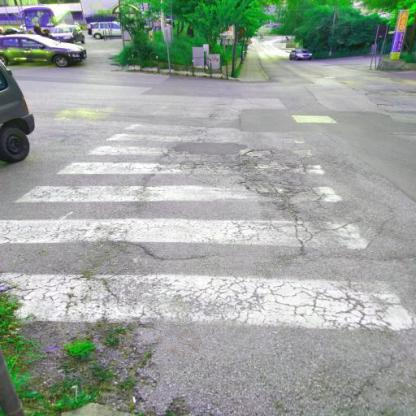crosswalk: (0, 181, 371, 252)
